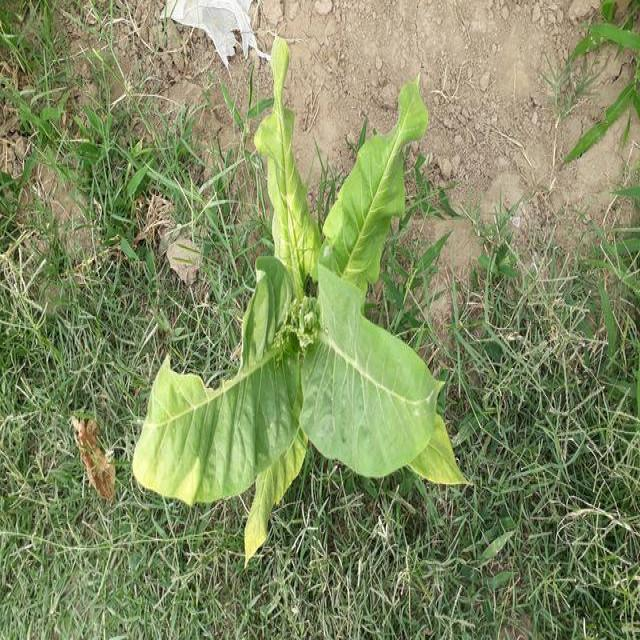crop: (134, 68, 473, 550)
